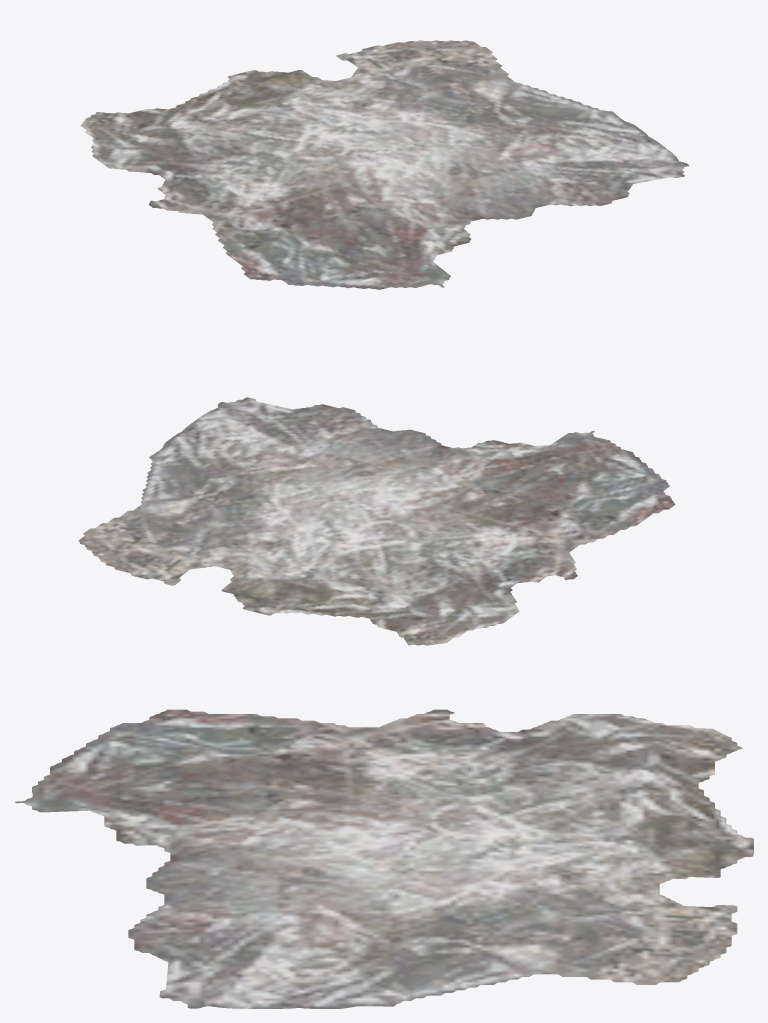
The model's file is plastic_wrap.fbx.
3 renders of one model, top to bottom at view 1: azimuth 30°, elevation 25°; view 2: azimuth 150°, elevation 25°; view 3: azimuth 270°, elevation 25°, orthographic. The views are drawn at different scales.
Parts seen in each view (by area): view 1: mesh_0; view 2: mesh_0; view 3: mesh_0.
Part boxes in pixels (x1,y1,x2,y2): mesh_0: (80, 40, 689, 289); mesh_0: (78, 397, 675, 645); mesh_0: (15, 709, 753, 1008).
Bounding box in the file's own units: 50 × 1 × 50.
Materials: 1 (1 with a texture image).
